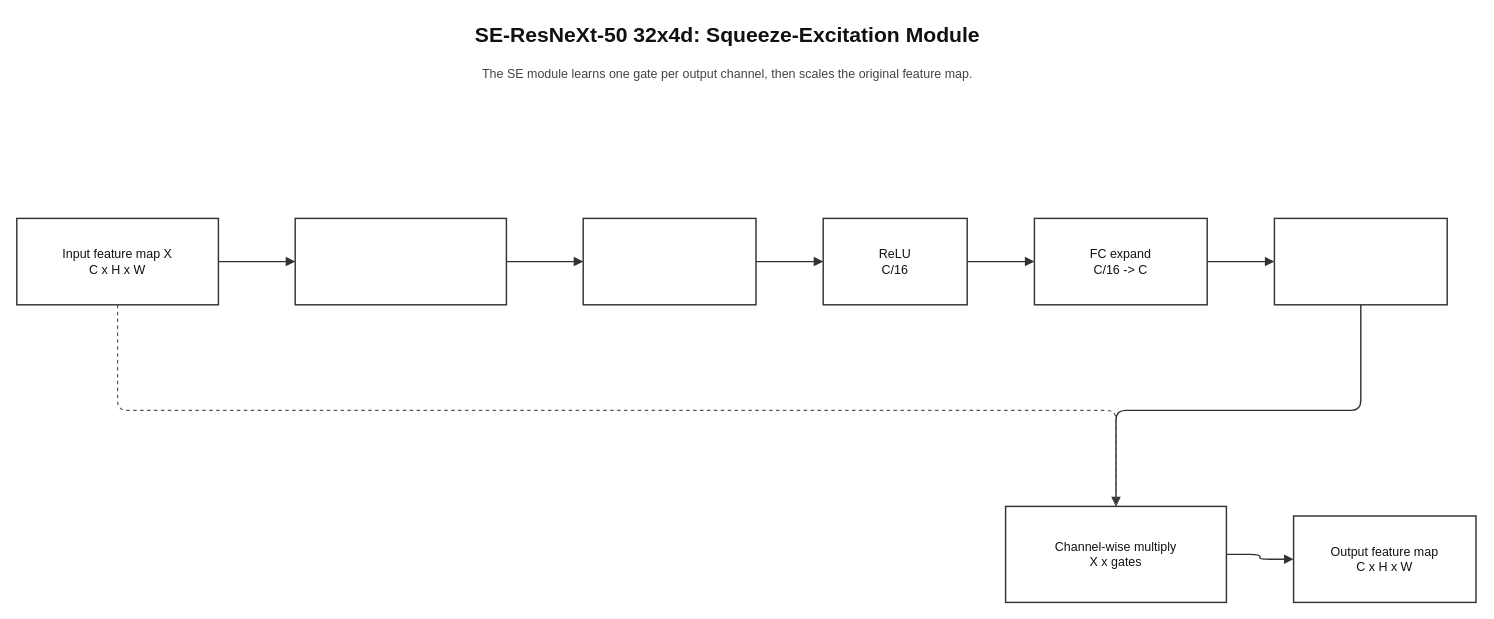
Some shapes in this 1494 by 619 pixel diagram are drawn without their labels. The shapes that lost their labels are listed below. From the top down, each one's centre as x and y in pixels, then its label:
At point (400, 261): "Global average pool C x H x W -> C".
At point (669, 261): "FC reduce C -> C/16".
At point (1360, 261): "Sigmoid gates C values".
